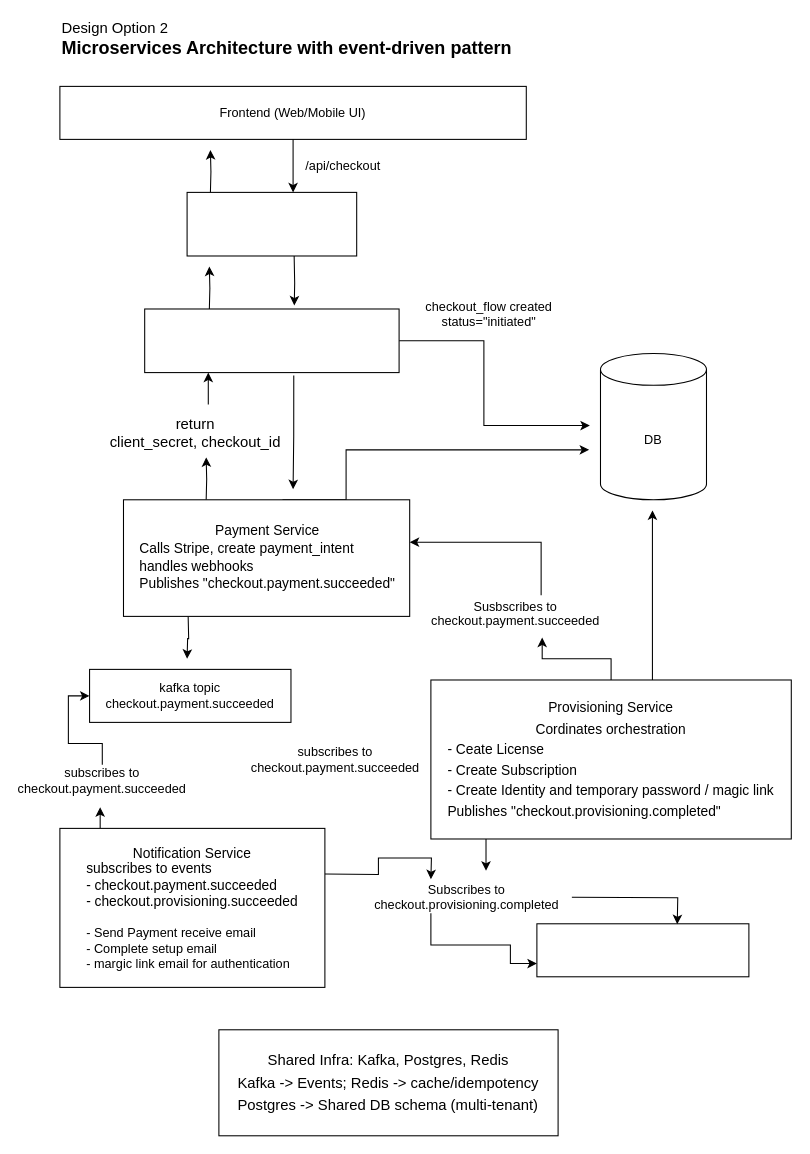
Some shapes in this 810 by 1154 pixel diagram are drawn without their labels. Here are the shapes that lost their labels. From the top down, the centre of each, then its label:
pixel 271 223: API Gateway
pixel 271 340: Checkout Service Creates checkout_flow
pixel 642 950: kafka topic checkout.provisioning.succeeded
